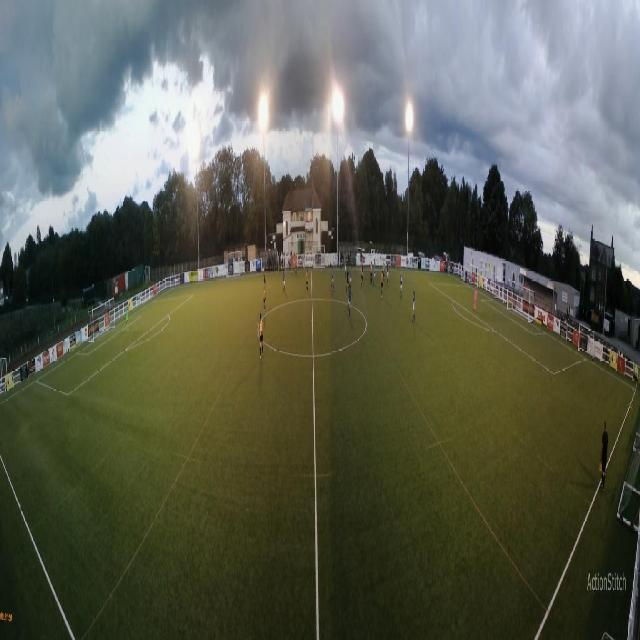player: (258, 313, 264, 360), (348, 283, 352, 317), (412, 290, 416, 324), (330, 265, 334, 292), (346, 267, 350, 293), (473, 287, 477, 313), (125, 307, 129, 332), (264, 284, 267, 316), (381, 270, 384, 300), (400, 271, 403, 299), (386, 261, 389, 287), (283, 268, 286, 293), (306, 269, 309, 294), (361, 265, 364, 290), (370, 261, 373, 286), (373, 262, 376, 286), (295, 256, 298, 277), (344, 256, 347, 277), (373, 259, 376, 279), (349, 267, 352, 285), (383, 262, 385, 286), (264, 267, 266, 286), (362, 255, 363, 269)
